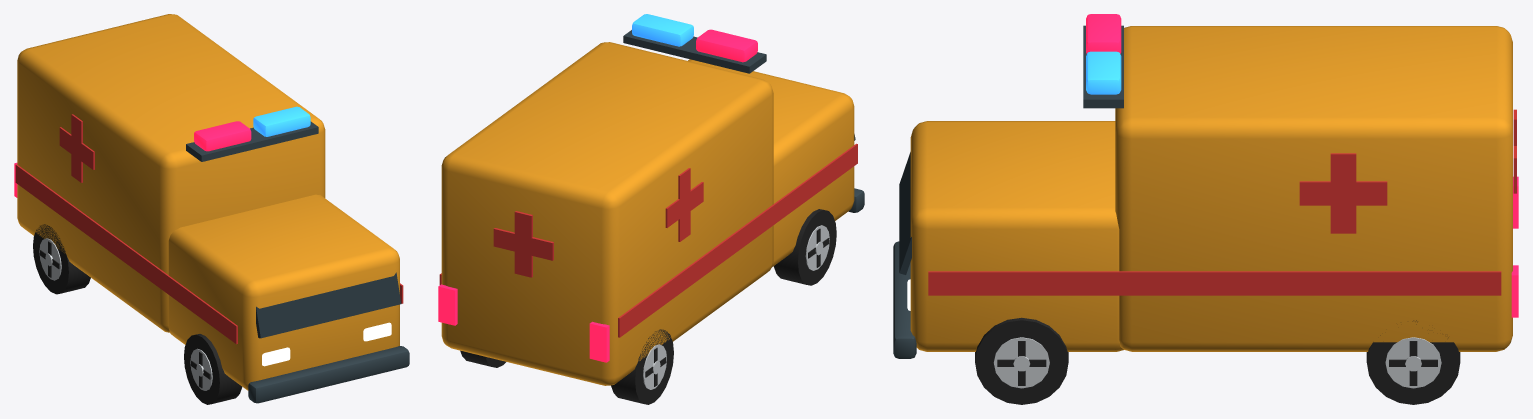
File: multiplayer_ambulance.glb
The picture shows the model from 3 angles, left to right: view 1: azimuth 30°, elevation 25°; view 2: azimuth 150°, elevation 25°; view 3: azimuth 270°, elevation 25°; orthographic projection. The views are drawn at different scales.
Parts seen in each view (by area): view 1: Ambulance_body, Wheel_FR.001, Wheel_RR.001; view 2: Ambulance_body, Wheel_FR.001, Wheel_RR.001; view 3: Ambulance_body, Wheel_FL.001, Wheel_RL.001.
Boxes of the visible parts, x1,y1,x2,y2 form: Ambulance_body: [14, 14, 409, 403]; Wheel_FR.001: [184, 334, 242, 404]; Wheel_RR.001: [33, 224, 90, 294]; Ambulance_body: [438, 14, 864, 385]; Wheel_FR.001: [773, 209, 836, 285]; Wheel_RR.001: [611, 329, 673, 404]; Ambulance_body: [893, 14, 1518, 358]; Wheel_FL.001: [975, 317, 1068, 404]; Wheel_RL.001: [1366, 320, 1460, 404].
Bounding box in the file's own units: 2.16 × 2.9 × 5.35.
